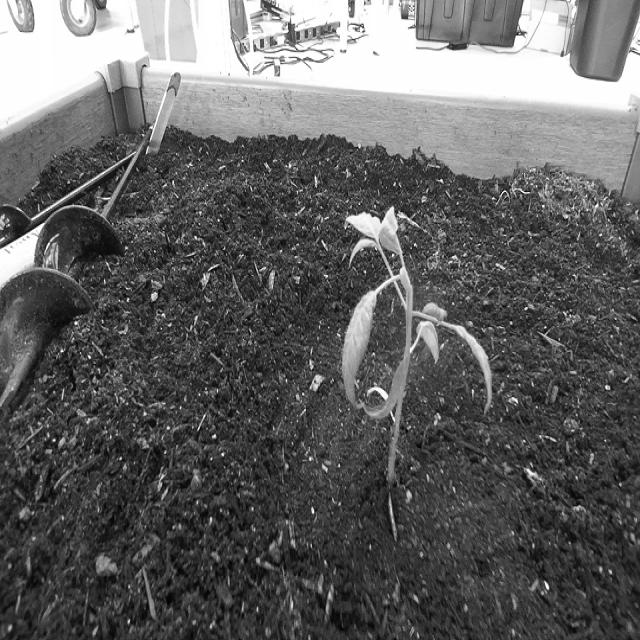Healthy: (334, 197, 496, 513)
